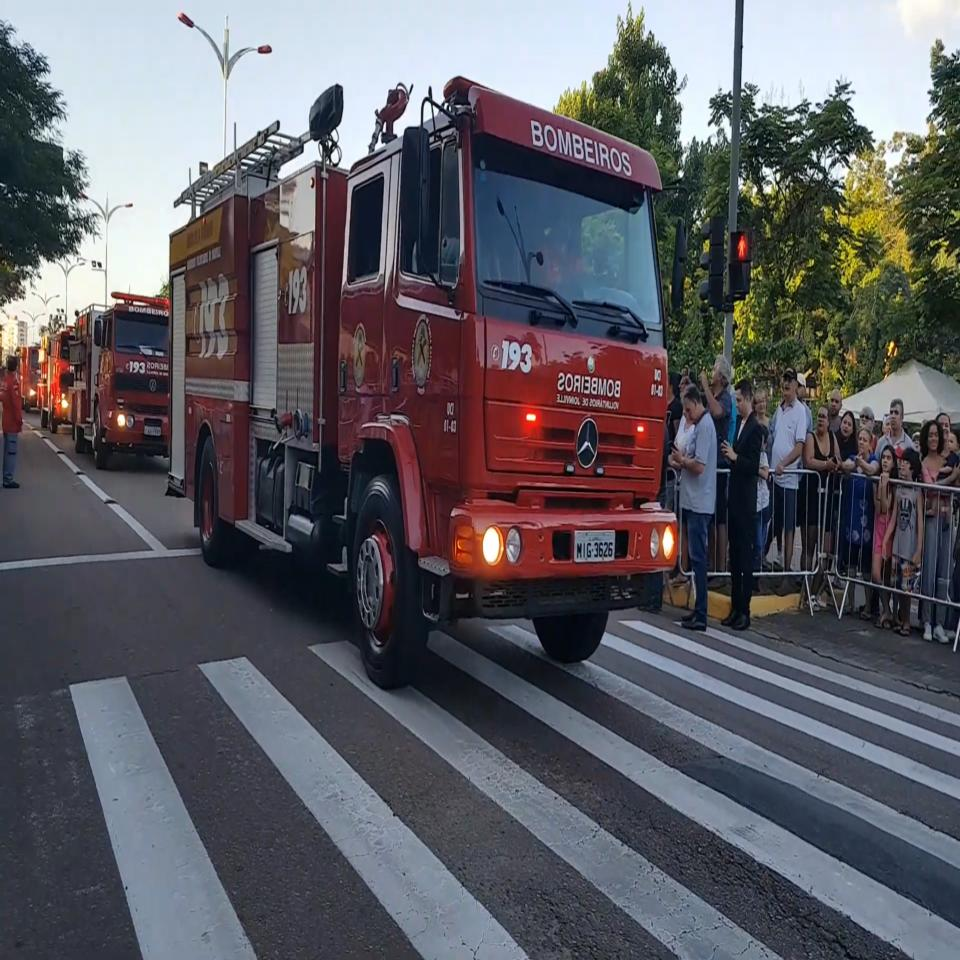viatura: (167, 82, 681, 692)
